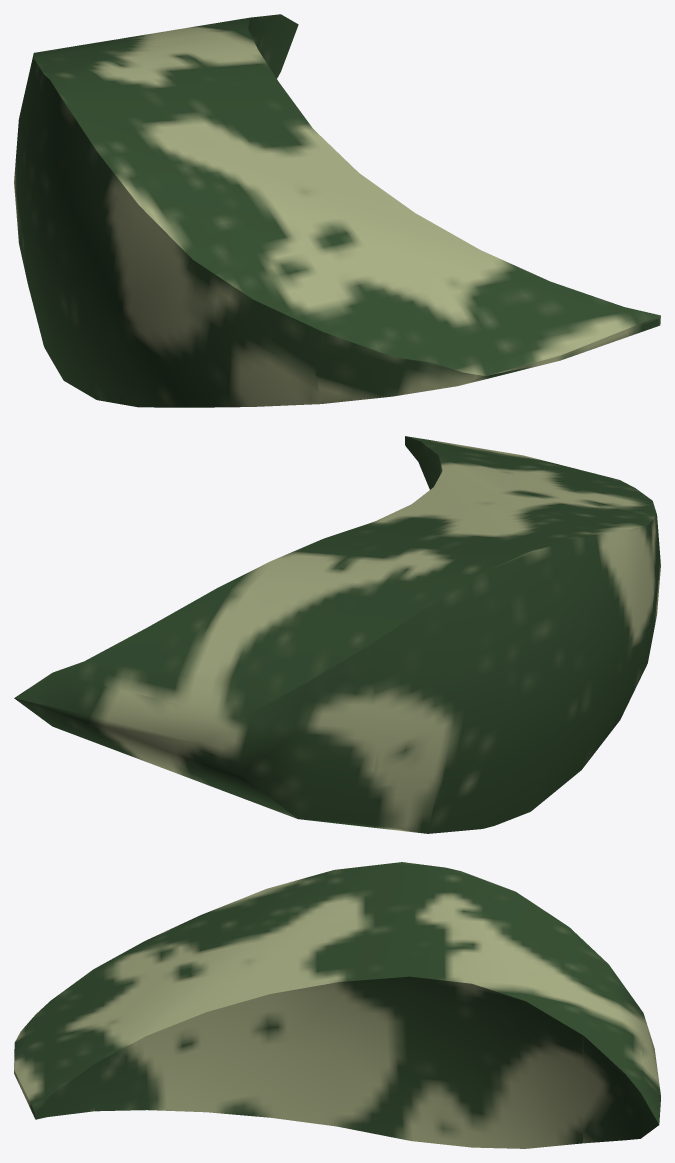
The model's file is link_body_28.obj.
3 views of the same model, one above another, from view 1: azimuth 30°, elevation 25°; view 2: azimuth 150°, elevation 25°; view 3: azimuth 270°, elevation 25° (orthographic). The views are drawn at different scales.
Parts seen in each view (by area): view 1: link_body_28; view 2: link_body_28; view 3: link_body_28.
Boxes of the visible parts, x1,y1,x2,y2 form: link_body_28: (14,14,660,407); link_body_28: (14,436,660,833); link_body_28: (14,862,660,1148).
Bounding box in the file's own units: 7.02 × 4.42 × 11.64.
